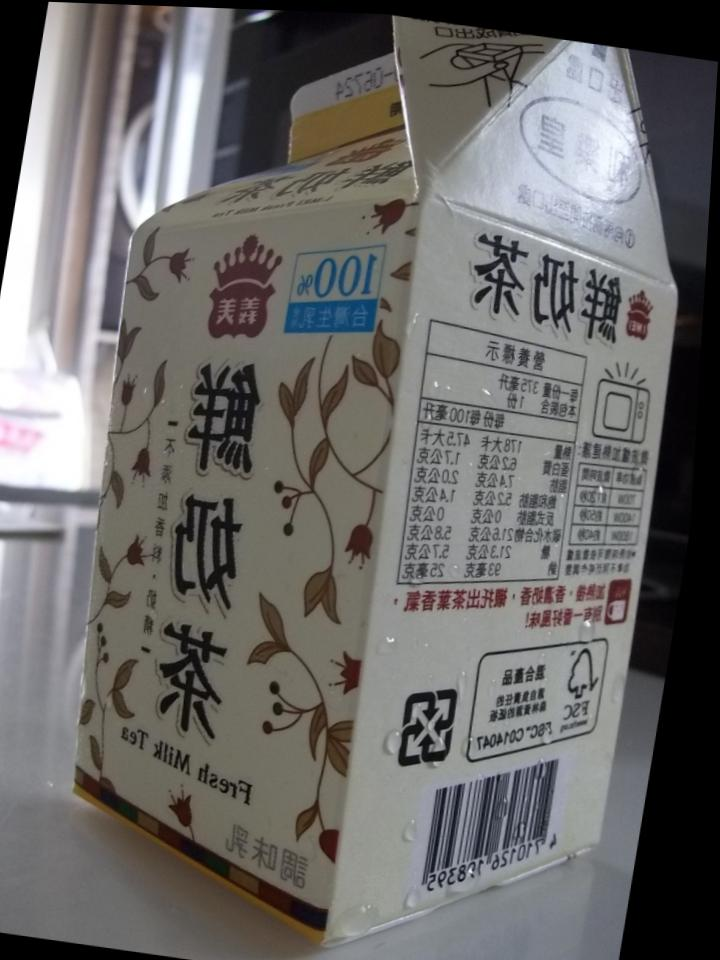cardboard: (19, 3, 720, 960)
